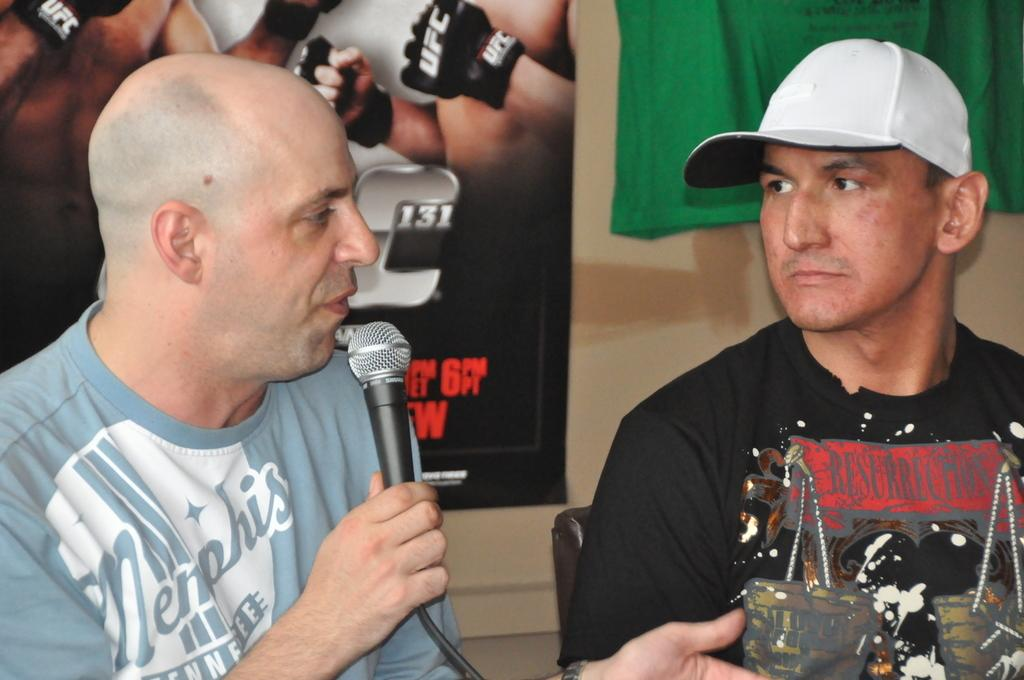Hat: (680, 38, 970, 192)
